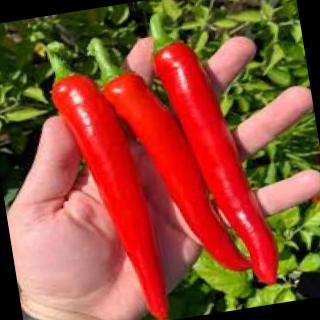Cabai Merah: (98, 67, 249, 292), (148, 34, 276, 296), (46, 66, 170, 320)
